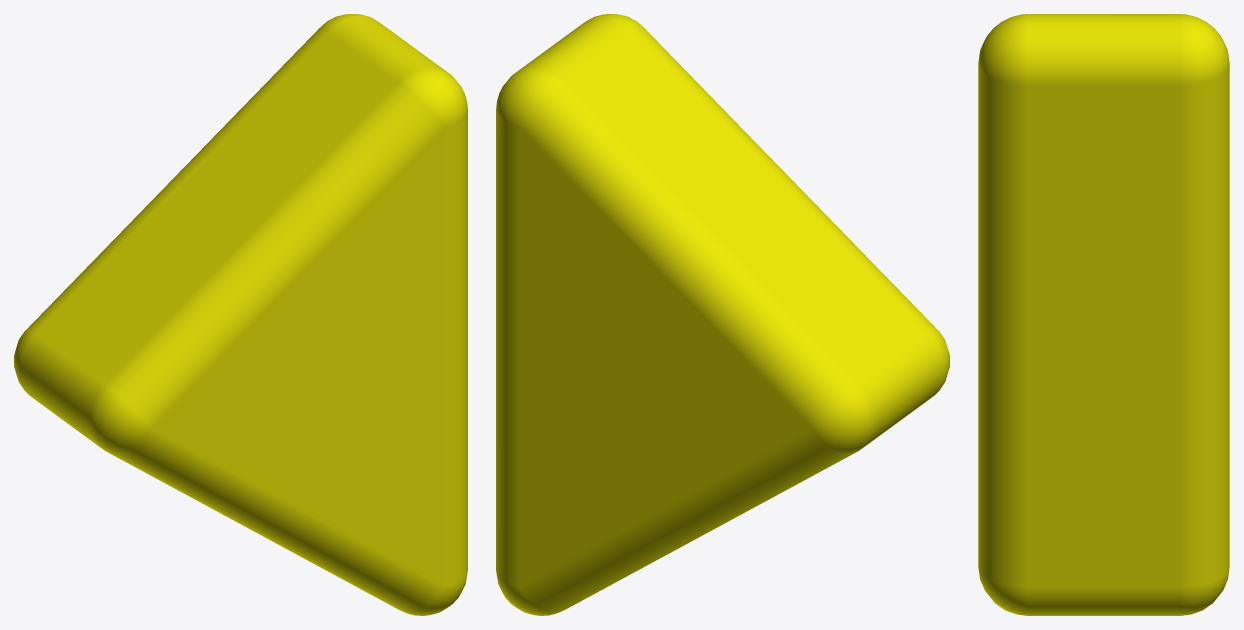
Rendered from arrow.glb.
The picture shows the model from 3 angles, left to right: view 1: azimuth 30°, elevation 25°; view 2: azimuth 150°, elevation 25°; view 3: azimuth 270°, elevation 25°; orthographic projection. The views are drawn at different scales.
Visible parts, largest first — view 1: arrow v1; view 2: arrow v1; view 3: arrow v1.
Part boxes in pixels (bbox=[...]): arrow v1: bbox=[14, 14, 467, 615]; arrow v1: bbox=[496, 14, 949, 615]; arrow v1: bbox=[978, 14, 1229, 615].
Bounding box in the file's own units: 1.87 × 2.6 × 1.
